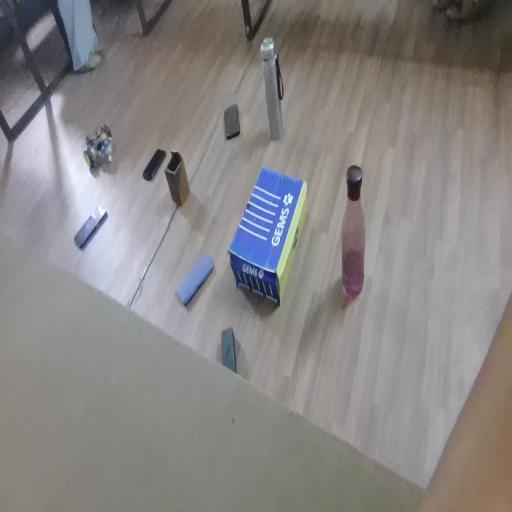Bottle: (343, 174, 379, 317)
car: (75, 122, 130, 178)
